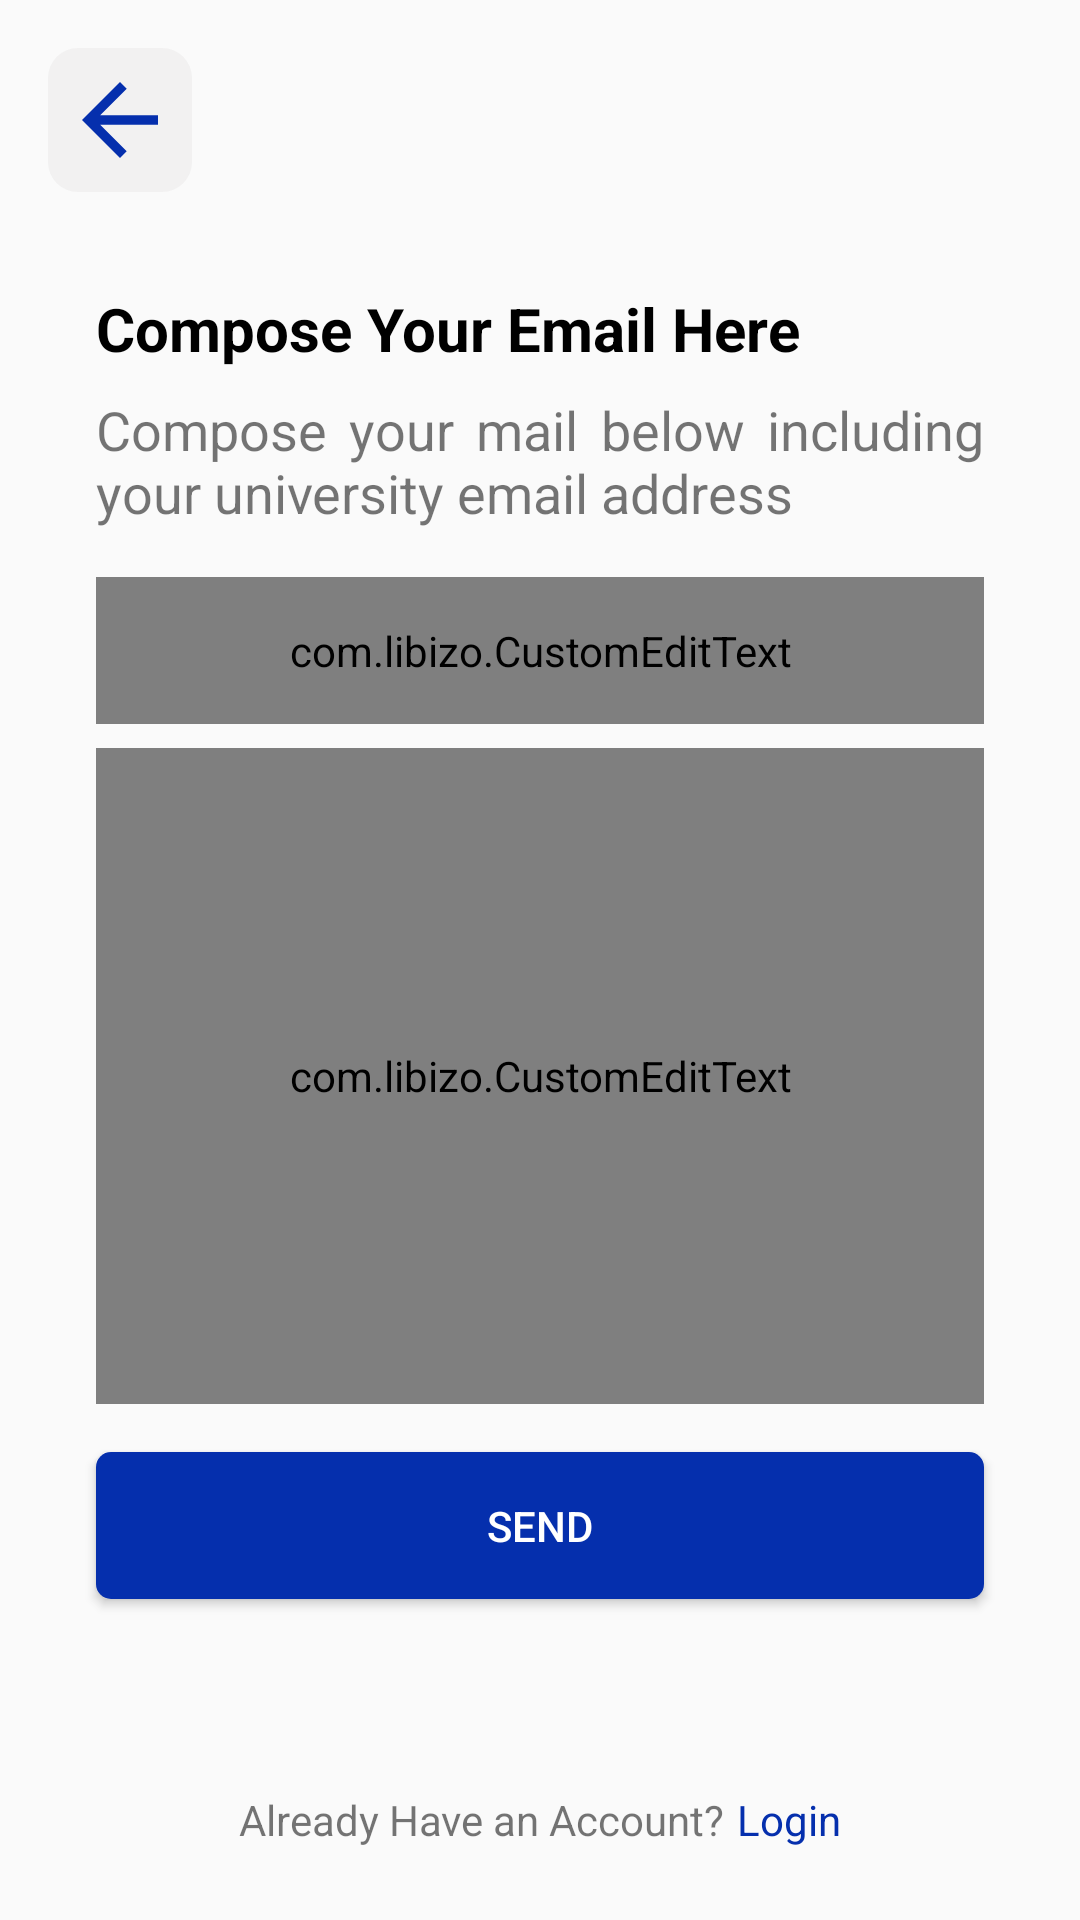

Screen size 1080w x 1920h. Icon name, then its box in pixels as BBox(x1, y1, x2, y2):
back: BBox(48, 48, 192, 192)
